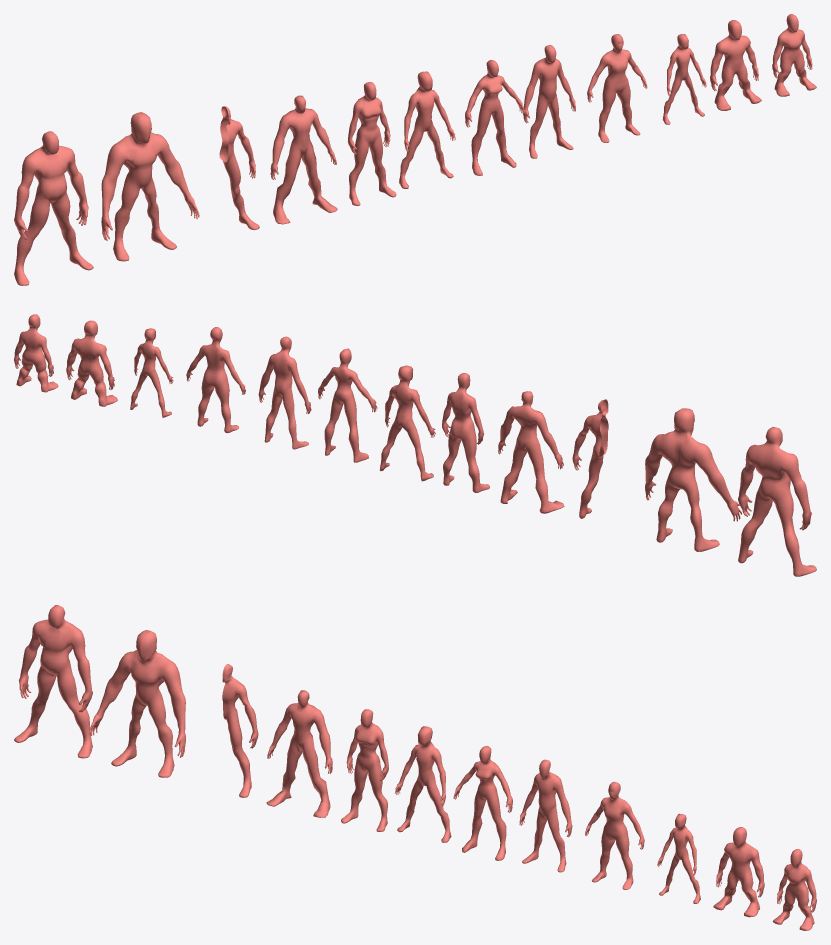
File: base-human-meshs.glb
The picture shows the model from 3 angles, top to bottom: view 1: azimuth 30°, elevation 25°; view 2: azimuth 150°, elevation 25°; view 3: azimuth 330°, elevation 25°; orthographic projection.
Visible parts, largest first — view 1: B5, A1, A4, A5, A6, A3, B2, B6, B1, B4, A2, B3; view 2: A1, B5, A4, A5, A6, A3, B6, B2, B1, B4, A2, B3; view 3: B5, A1, A4, A5, A6, A3, B2, B6, B1, A2, B4, B3.
Part boxes in pixels (x1=…): B5: x1=101, y1=112, x2=199, y2=261; A1: x1=14, y1=131, x2=93, y2=285; A4: x1=270, y1=95, x2=337, y2=224; A5: x1=347, y1=82, x2=396, y2=205; A6: x1=523, y1=45, x2=575, y2=158; A3: x1=465, y1=60, x2=524, y2=175; B2: x1=399, y1=71, x2=455, y2=188; B6: x1=587, y1=34, x2=647, y2=142; B1: x1=710, y1=20, x2=761, y2=110; B4: x1=772, y1=14, x2=816, y2=96; A2: x1=219, y1=106, x2=259, y2=230; B3: x1=662, y1=34, x2=706, y2=124; A1: x1=738, y1=427, x2=816, y2=576; B5: x1=645, y1=408, x2=741, y2=551; A4: x1=498, y1=391, x2=564, y2=513; A5: x1=442, y1=373, x2=489, y2=492; A6: x1=258, y1=336, x2=311, y2=449; A3: x1=318, y1=348, x2=377, y2=462; B6: x1=186, y1=327, x2=245, y2=433; B2: x1=379, y1=365, x2=435, y2=481; B1: x1=66, y1=320, x2=117, y2=406; B4: x1=14, y1=314, x2=58, y2=392; A2: x1=572, y1=399, x2=608, y2=518; B3: x1=130, y1=328, x2=173, y2=417; B5: x1=89, y1=630, x2=185, y2=777; A1: x1=14, y1=605, x2=92, y2=758; A4: x1=266, y1=690, x2=332, y2=817; A5: x1=341, y1=709, x2=388, y2=831; A6: x1=519, y1=759, x2=572, y2=872; A3: x1=453, y1=746, x2=512, y2=860; B2: x1=395, y1=726, x2=451, y2=842; B6: x1=585, y1=781, x2=644, y2=889; B1: x1=713, y1=827, x2=764, y2=917; A2: x1=222, y1=664, x2=258, y2=797; B4: x1=772, y1=849, x2=816, y2=930; B3: x1=657, y1=813, x2=700, y2=903.
Bounding box in the file's own units: 96.35 × 16.06 × 4.59.
